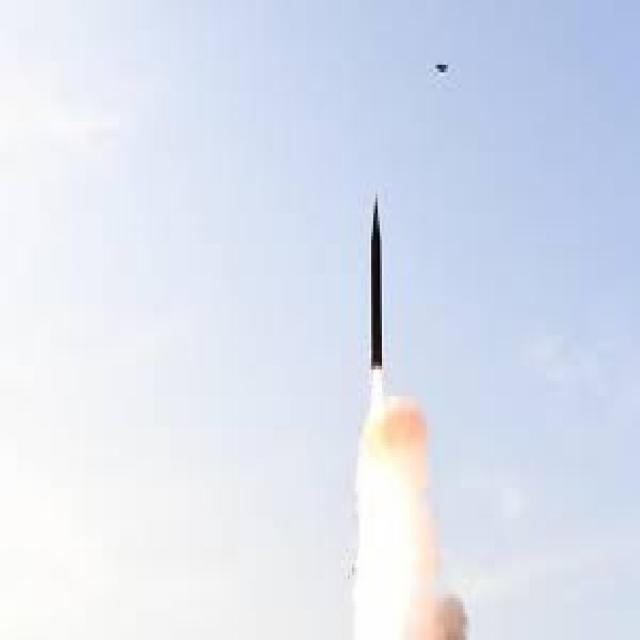Missile: (367, 176, 384, 370)
